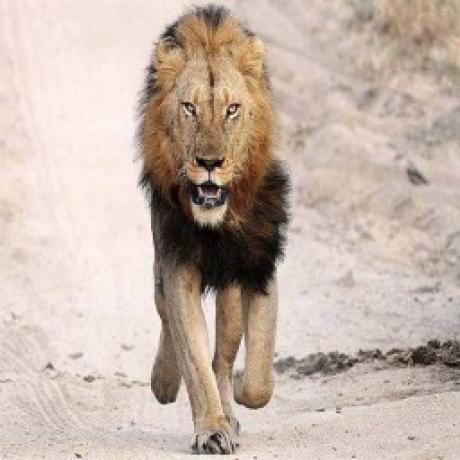Lion: (135, 2, 291, 460)
